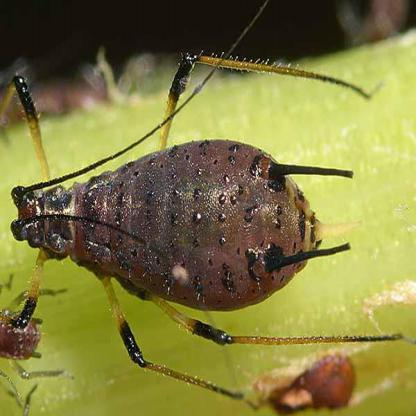uroleucon compositae: (8, 55, 358, 366)
